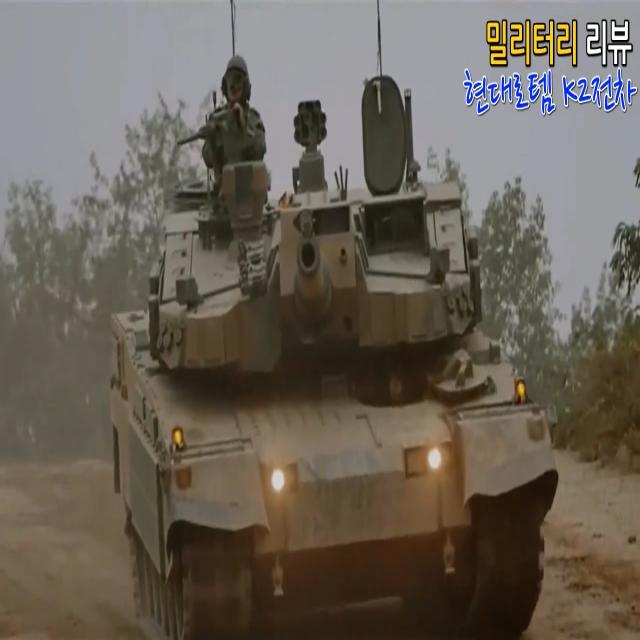korea tank: (112, 58, 558, 640)
